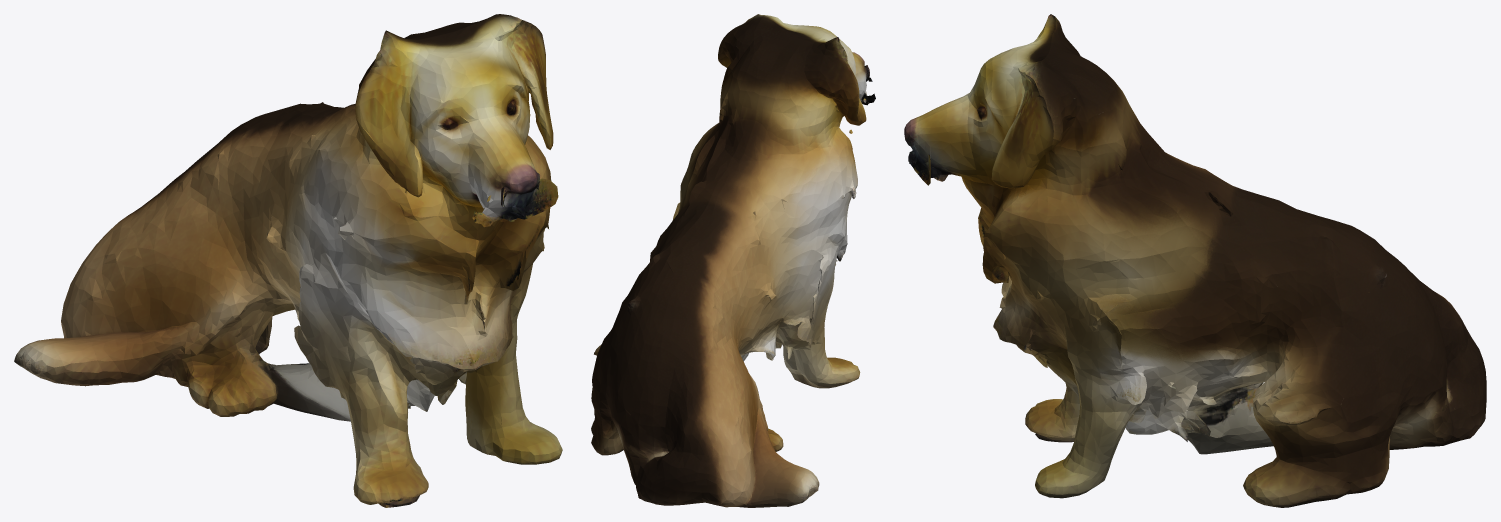
The picture shows the model from 3 angles, left to right: view 1: azimuth 30°, elevation 25°; view 2: azimuth 150°, elevation 25°; view 3: azimuth 270°, elevation 25°; orthographic projection. The views are drawn at different scales.
Parts seen in each view (by area): view 1: world; view 2: world; view 3: world.
Part boxes in pixels (box(x1,y1,x2,y2)): world: box(14, 14, 562, 507); world: box(591, 14, 875, 507); world: box(904, 14, 1486, 507).
Size of the model in its own units: 0.6425 by 0.7845 by 0.9998.
1 material, 1 textured.
